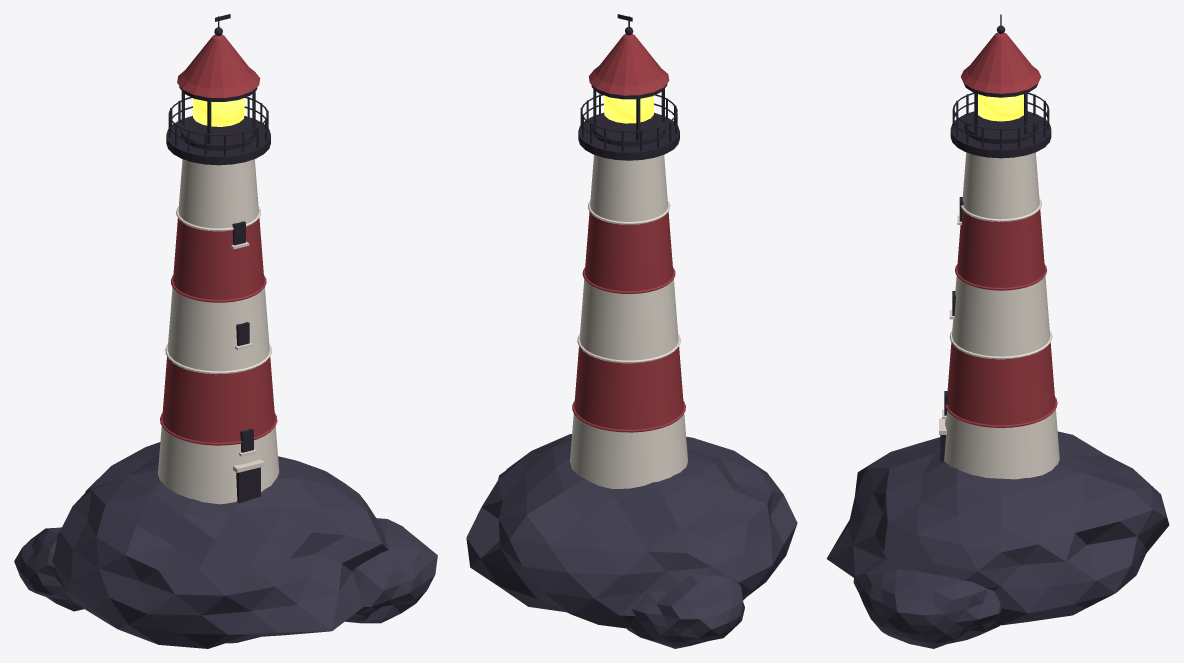
The model's file is lighthouse.glb.
The picture shows the model from 3 angles, left to right: view 1: azimuth 30°, elevation 25°; view 2: azimuth 150°, elevation 25°; view 3: azimuth 270°, elevation 25°; orthographic projection. The views are drawn at different scales.
Parts seen in each view (by area): view 1: tower, lamp; view 2: tower, lamp; view 3: tower, lamp.
Part boxes in pixels (left/top/right/bottom): tower: left=14, top=14, right=437, bottom=648; lamp: left=193, top=98, right=244, bottom=126; tower: left=466, top=14, right=797, bottom=648; lamp: left=604, top=95, right=653, bottom=123; tower: left=826, top=14, right=1169, bottom=648; lamp: left=978, top=94, right=1023, bottom=121.
Size of the model in its own units: 11.62 by 20.96 by 11.22.
